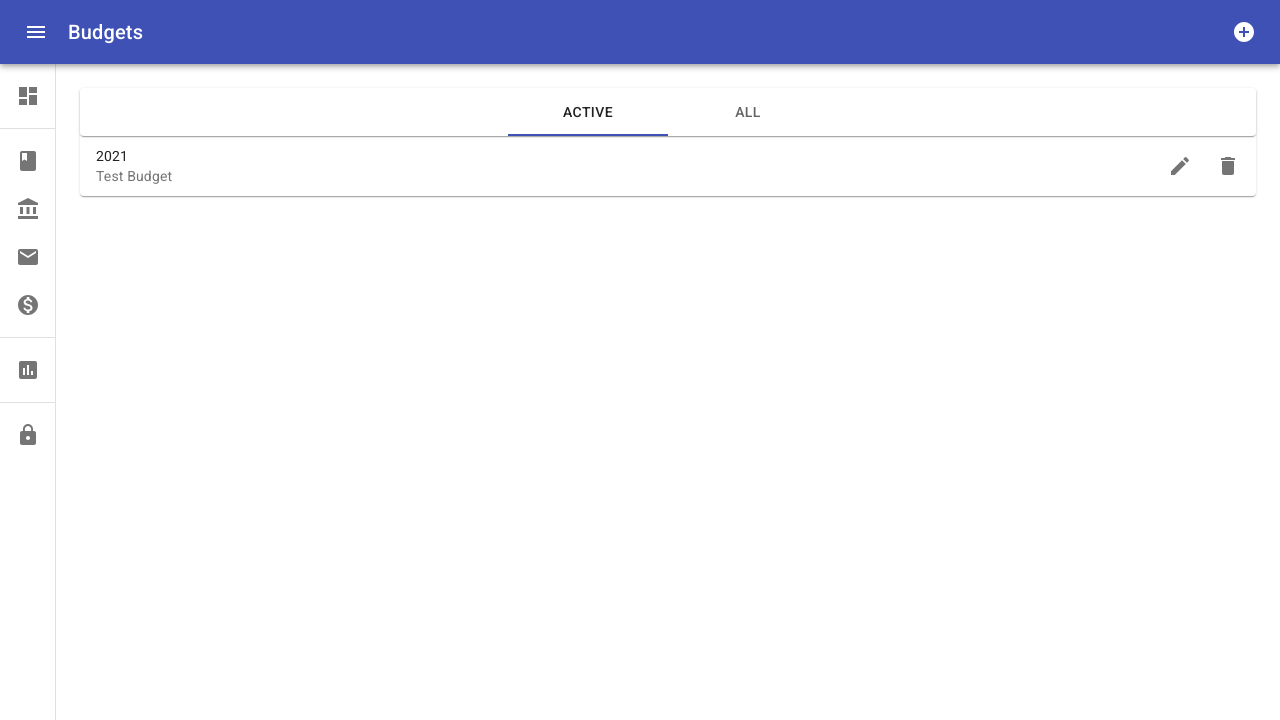
Scenario: should display active budgets tab by default
Expected: the button "2021 Test Budget" is shown, [96,148,172,184]
Expected: the button "Test Budget Monthly (12)" is not shown
Step 1. Click the tab "All" → coordinates (748, 112), box [668,88,828,136]
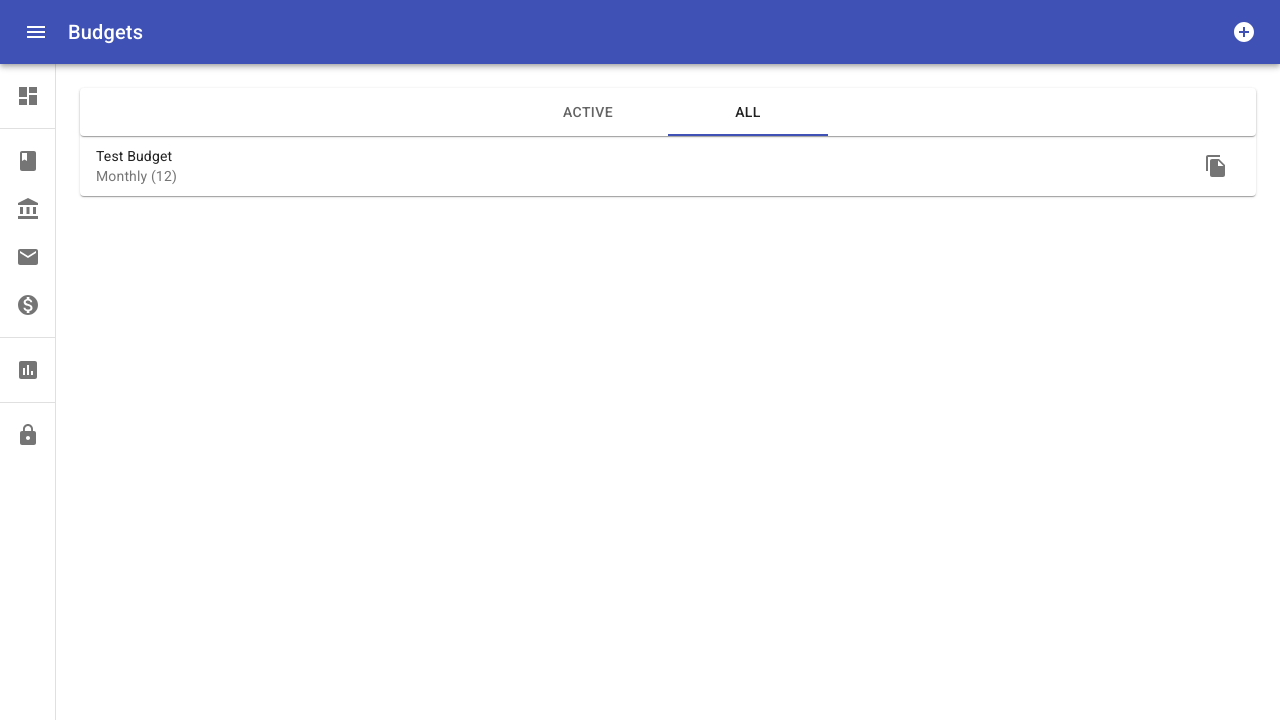
Expected: the button "Test Budget Monthly (12)" is shown, [96,148,177,184]
Expected: the button "2021 Test Budget" is gone
